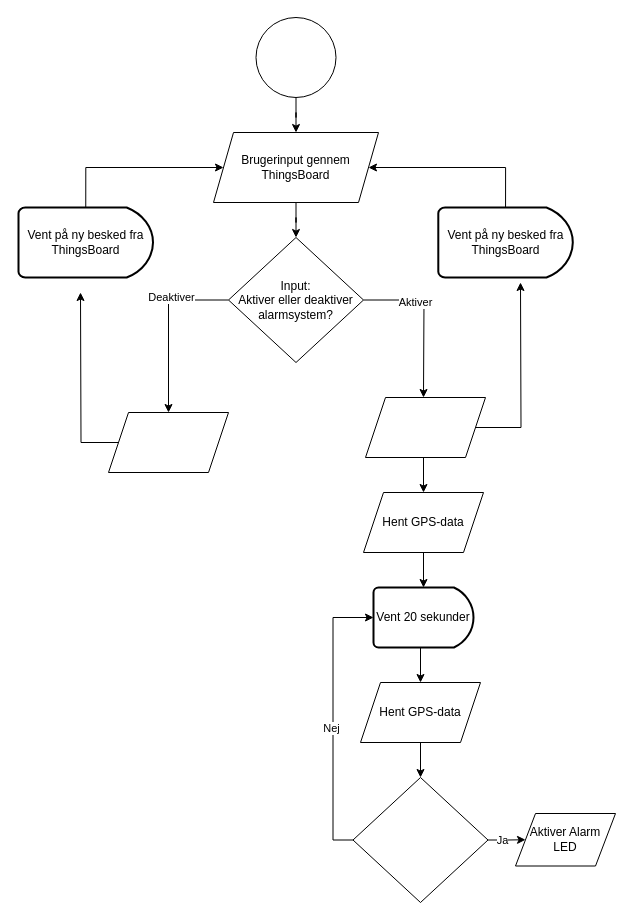
The diagram is 633 pixels wide and 920 high, and some of its shapes have lost their labels. Here are the shapes that lost their labels. From the top down, the centre of each, then its label:
At pixel 295 57: "ID 9 Start".
At pixel 168 442: "Deaktiver alarmsystem".
At pixel 425 427: "Aktiver alarmsystem".
At pixel 420 839: "Har GPS-lokation ændret sig?".
